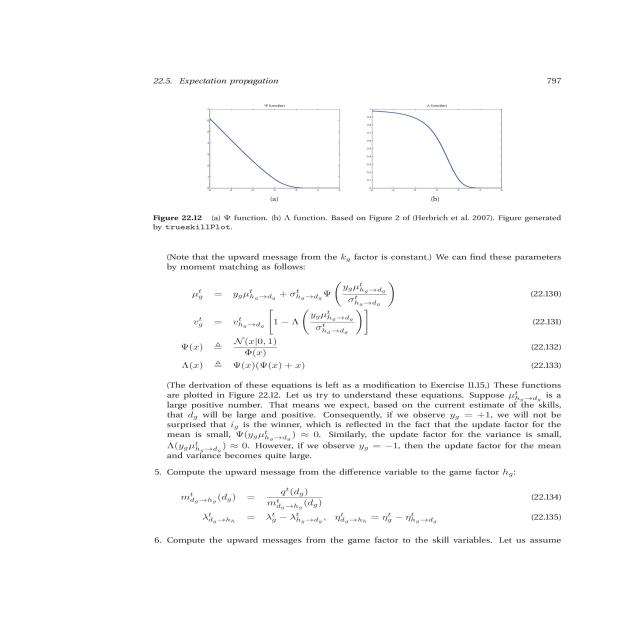diagram: (98, 97, 588, 246)
